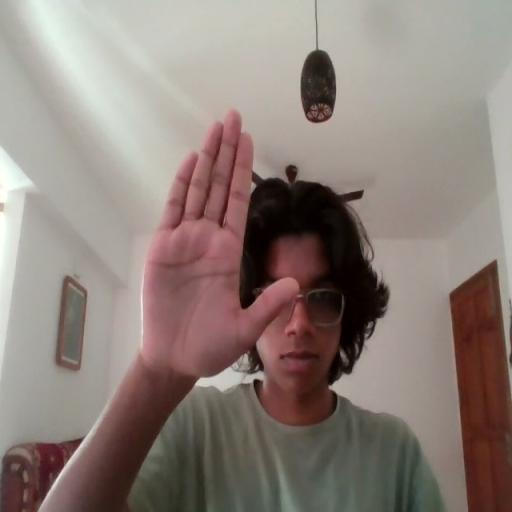Paper: (140, 107, 298, 385)
